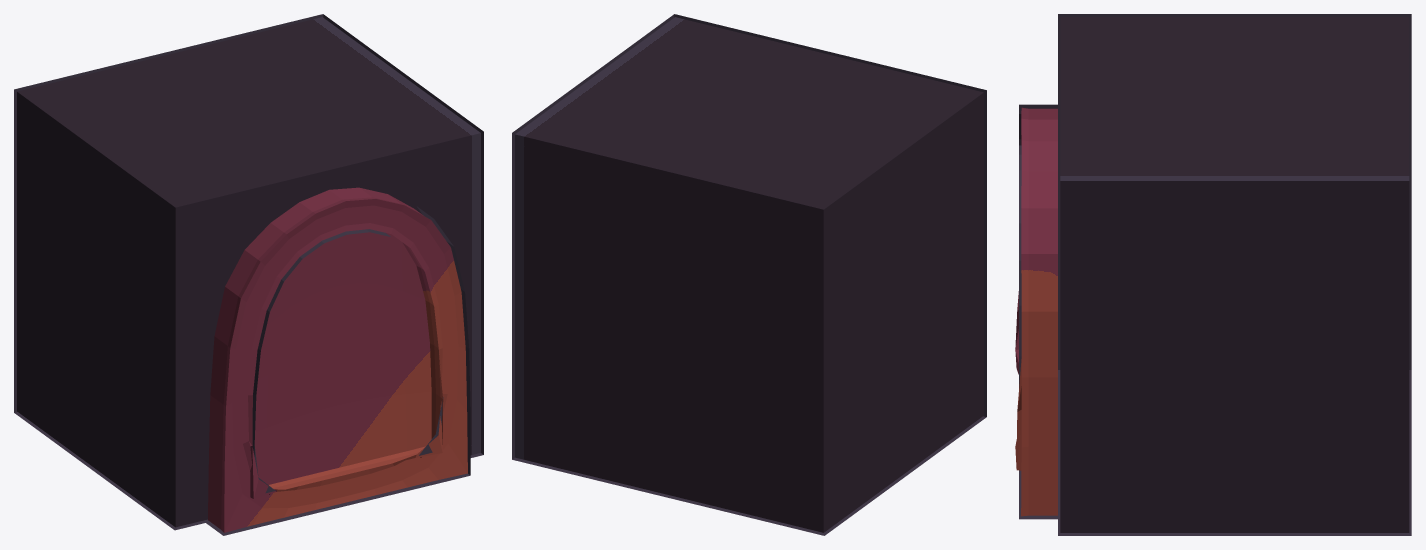
File: door.glb
The picture shows the model from 3 angles, left to right: view 1: azimuth 30°, elevation 25°; view 2: azimuth 150°, elevation 25°; view 3: azimuth 270°, elevation 25°; orthographic projection. The views are drawn at different scales.
Visible parts, largest first — view 1: Door, DoorOutline; view 2: Door, DoorOutline; view 3: Door, DoorOutline.
Part boxes in pixels (box(x1,y1,x2,y2)): Door: box(17, 17, 480, 532); DoorOutline: box(14, 14, 483, 535); Door: box(515, 17, 983, 532); DoorOutline: box(512, 14, 986, 535); Door: box(1015, 17, 1409, 532); DoorOutline: box(1019, 14, 1411, 535).
Size of the model in its own units: 1 by 1 by 1.01.
Materials: 1 (1 with a texture image).
